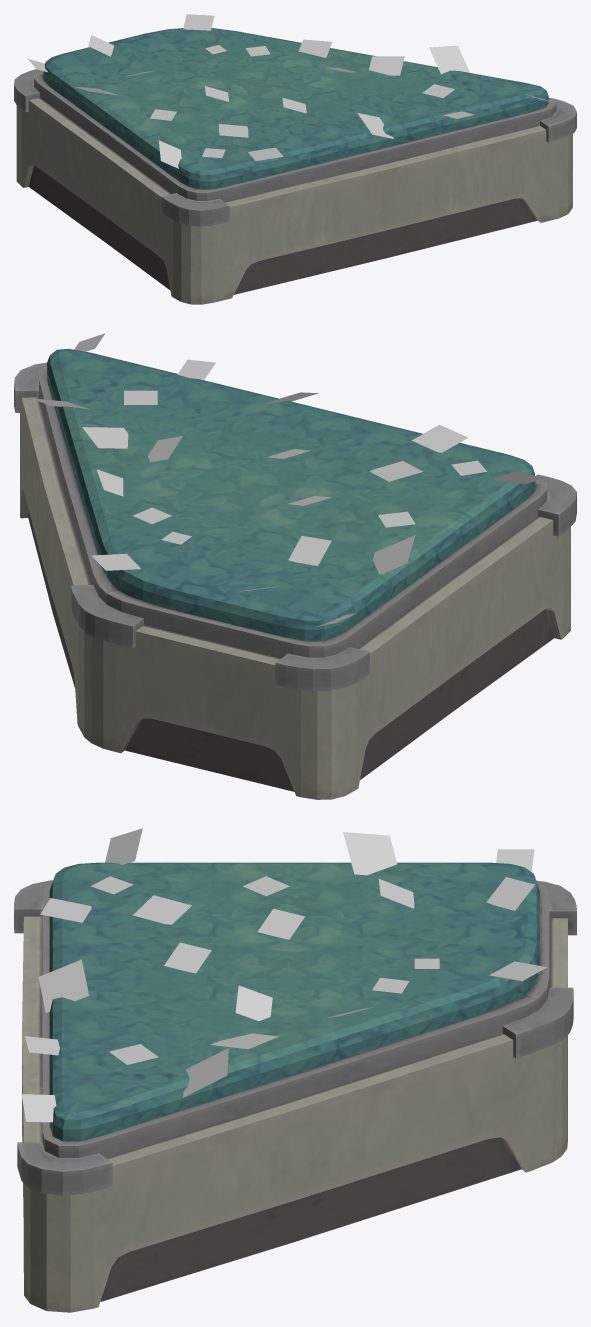
The model's file is pref_sm_city_parterre03b_snow_lv3.fbx.
3 views of the same model, one above another, from view 1: azimuth 30°, elevation 25°; view 2: azimuth 150°, elevation 25°; view 3: azimuth 270°, elevation 25° (orthographic). The views are drawn at different scales.
Parts seen in each view (by area): view 1: sm_city_parterre03b_snow_lv3, sm_city_parterre03d_snow_lv3; view 2: sm_city_parterre03b_snow_lv3, sm_city_parterre03d_snow_lv3; view 3: sm_city_parterre03b_snow_lv3, sm_city_parterre03d_snow_lv3.
Boxes of the visible parts, x1,y1,x2,y2 form: sm_city_parterre03b_snow_lv3: (14, 28, 576, 304); sm_city_parterre03d_snow_lv3: (27, 14, 552, 168); sm_city_parterre03b_snow_lv3: (14, 348, 576, 799); sm_city_parterre03d_snow_lv3: (29, 333, 542, 627); sm_city_parterre03b_snow_lv3: (14, 862, 576, 1312); sm_city_parterre03d_snow_lv3: (21, 828, 547, 1122).
Bounding box in the file's own units: 4.78 × 1.57 × 3.88.
